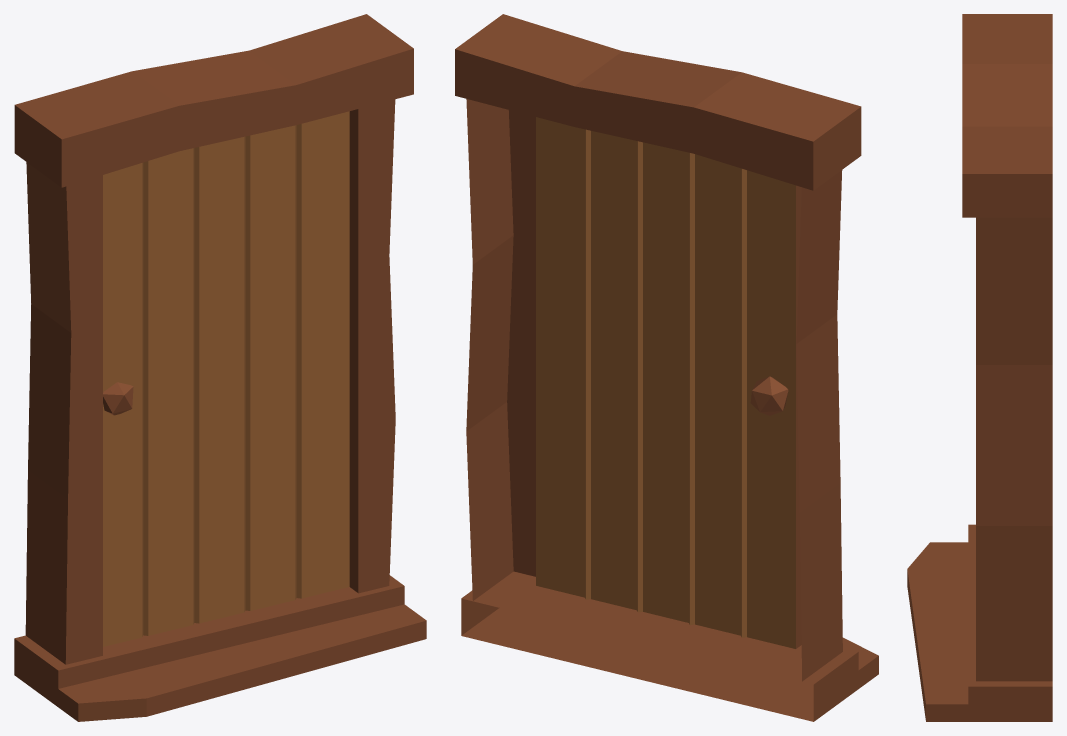
File: LP_PostApoc_Door1.fbx
3 views of the same model, side by side, from view 1: azimuth 30°, elevation 25°; view 2: azimuth 150°, elevation 25°; view 3: azimuth 270°, elevation 25° (orthographic). The views are drawn at different scales.
Visible parts, largest first — view 1: Door1; view 2: Door1; view 3: Door1.
Part boxes in pixels (x1,y1,x2,y2): Door1: [14, 14, 426, 721]; Door1: [455, 14, 878, 721]; Door1: [907, 14, 1052, 721].
Size of the model in its own units: 140 by 218 by 52.01.
